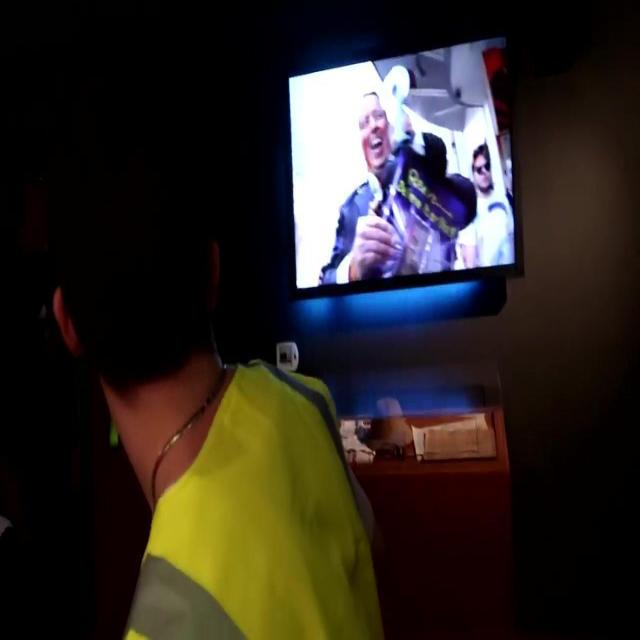Vest: (123, 350, 385, 638)
